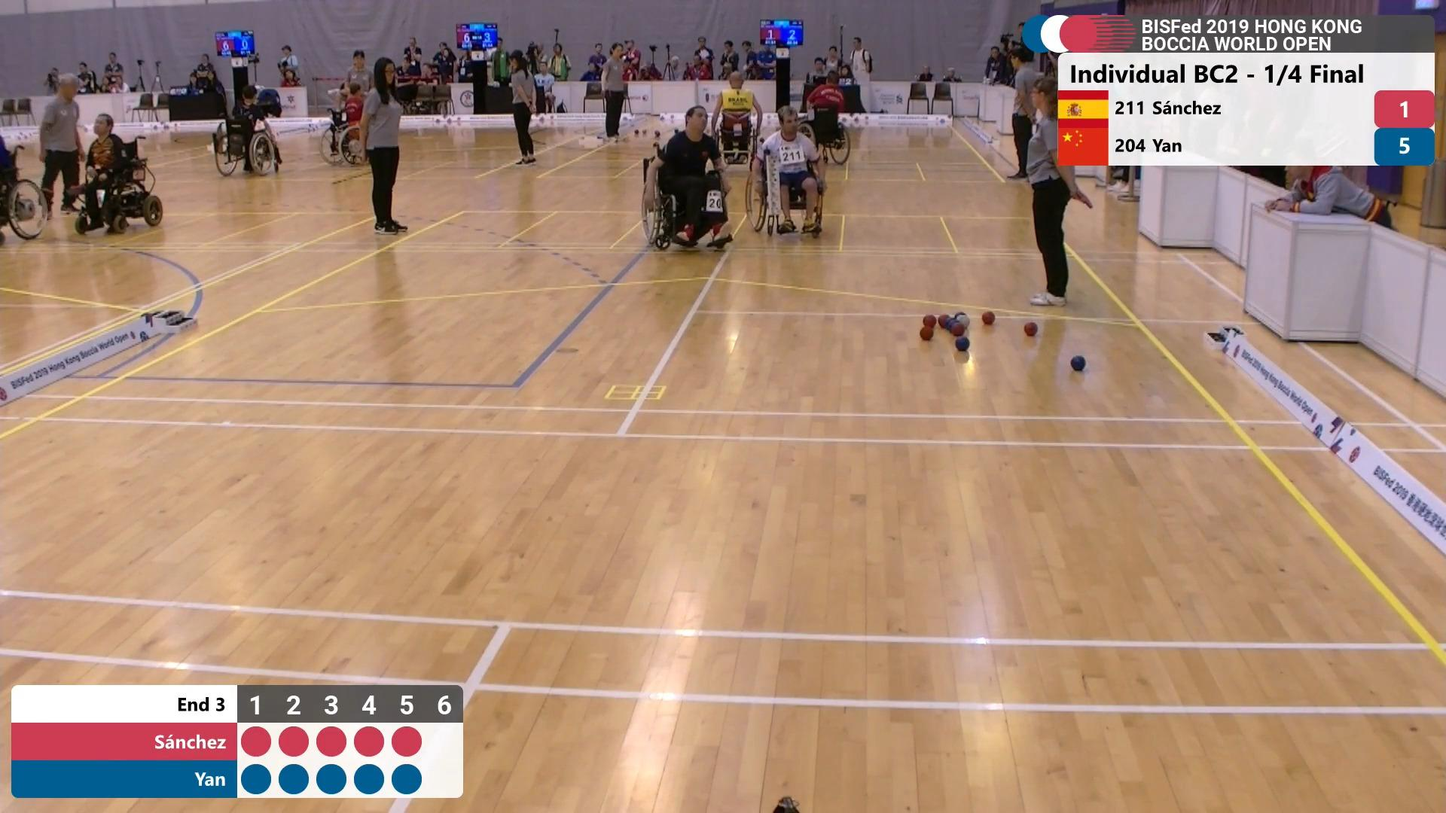blue_ball: (1069, 354, 1088, 372), (954, 335, 972, 353)
red_ball: (917, 325, 936, 342), (980, 308, 997, 327), (1022, 321, 1040, 338), (921, 312, 938, 329), (951, 322, 966, 337)
white_ball: (955, 313, 971, 328)
